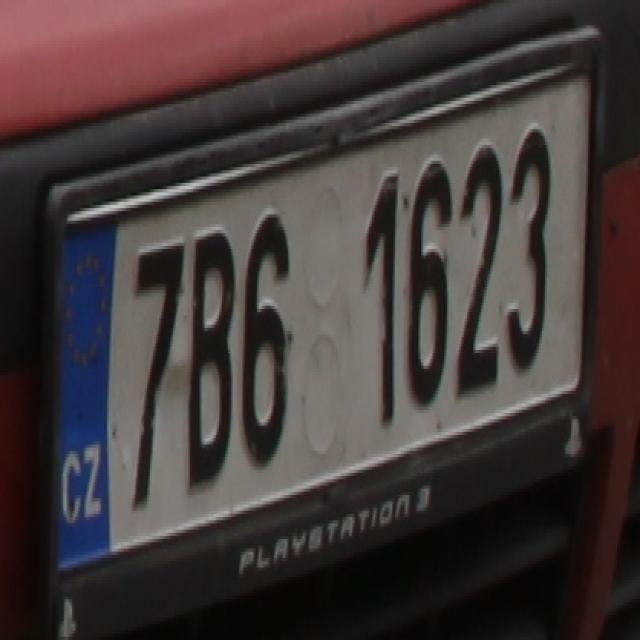1: (362, 170, 400, 429)
2: (454, 136, 504, 394)
3: (508, 126, 548, 375)
6: (238, 214, 286, 466), (408, 158, 451, 406)
7: (127, 240, 175, 524)
B: (190, 234, 234, 502)
